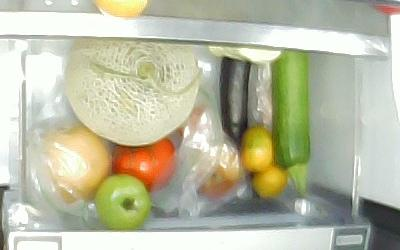eggplant: (218, 55, 253, 151)
melon: (65, 37, 200, 146)
pear_vinyl: (44, 123, 111, 202)
prune_vinyl: (195, 152, 242, 201)
tangerine: (238, 127, 274, 170), (254, 162, 288, 199)
tomato: (114, 138, 177, 190), (96, 173, 150, 228)
zucchini: (270, 50, 310, 197)
